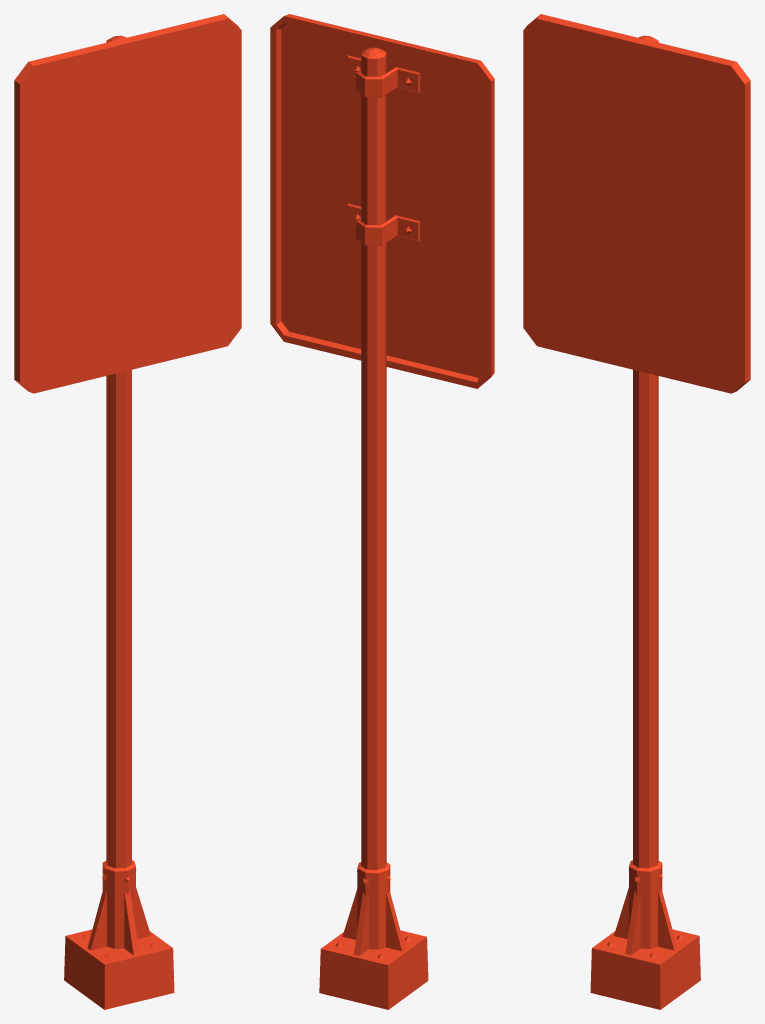
File: SM_Sign_Speed_40_B_City.fbx
3 views of the same model, side by side, from view 1: azimuth 30°, elevation 25°; view 2: azimuth 150°, elevation 25°; view 3: azimuth 330°, elevation 25° (orthographic).
Visible parts, largest first — view 1: SM_Sign_Speed_40_B_City; view 2: SM_Sign_Speed_40_B_City; view 3: SM_Sign_Speed_40_B_City.
Part boxes in pixels (x1,y1,x2,y2): SM_Sign_Speed_40_B_City: (14, 14, 241, 1009); SM_Sign_Speed_40_B_City: (270, 14, 494, 1009); SM_Sign_Speed_40_B_City: (523, 14, 750, 1009).
Size of the model in its own units: 0.5876 by 2.39 by 0.1839.
